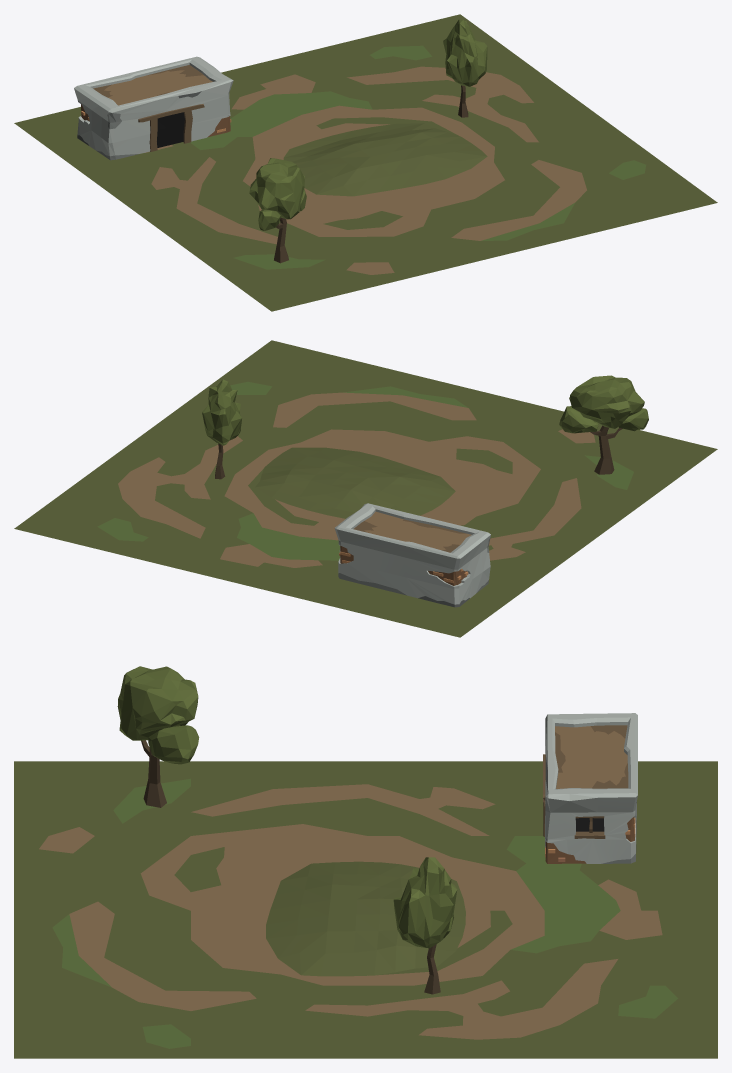
Rendered from env.glb.
3 views of the same model, one above another, from view 1: azimuth 30°, elevation 25°; view 2: azimuth 150°, elevation 25°; view 3: azimuth 270°, elevation 25° (orthographic). The views are drawn at different scales.
Visible parts, largest first — view 1: SM_Env_FloorTile_02, SM_Bld_Village_02, SM_Env_GroundMounds_01, SM_Env_Tree_09, SM_Env_Tree_02; view 2: SM_Env_FloorTile_02, SM_Bld_Village_02, SM_Env_GroundMounds_01, SM_Env_Tree_09, SM_Env_Tree_02; view 3: SM_Env_FloorTile_02, SM_Env_GroundMounds_01, SM_Bld_Village_02, SM_Env_Tree_09, SM_Env_Tree_02.
Part boxes in pixels (bbox=[...]): SM_Env_FloorTile_02: bbox=[14, 14, 717, 311]; SM_Bld_Village_02: bbox=[74, 56, 233, 160]; SM_Env_GroundMounds_01: bbox=[283, 123, 487, 196]; SM_Env_Tree_09: bbox=[249, 158, 306, 263]; SM_Env_Tree_02: bbox=[443, 19, 487, 117]; SM_Env_FloorTile_02: bbox=[14, 340, 717, 637]; SM_Bld_Village_02: bbox=[334, 503, 490, 607]; SM_Env_GroundMounds_01: bbox=[255, 447, 455, 518]; SM_Env_Tree_09: bbox=[559, 375, 648, 474]; SM_Env_Tree_02: bbox=[202, 379, 242, 479]; SM_Env_FloorTile_02: bbox=[14, 761, 717, 1058]; SM_Env_GroundMounds_01: bbox=[266, 861, 465, 976]; SM_Bld_Village_02: bbox=[543, 713, 637, 863]; SM_Env_Tree_09: bbox=[117, 666, 199, 807]; SM_Env_Tree_02: bbox=[393, 857, 457, 994].
Bounding box in the file's own units: 40.64 × 8.46 × 40.64.
Materials: 5 (5 with a texture image).
